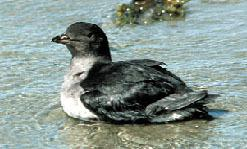008.Rhinoceros_Auklet: (51, 21, 215, 123)
